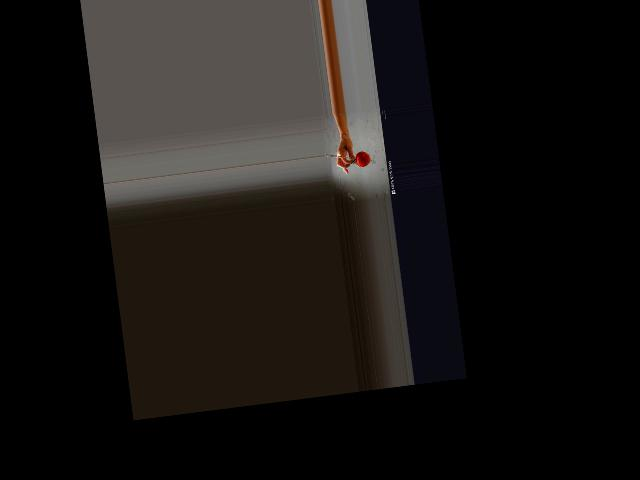tomato: (355, 149, 371, 166)
